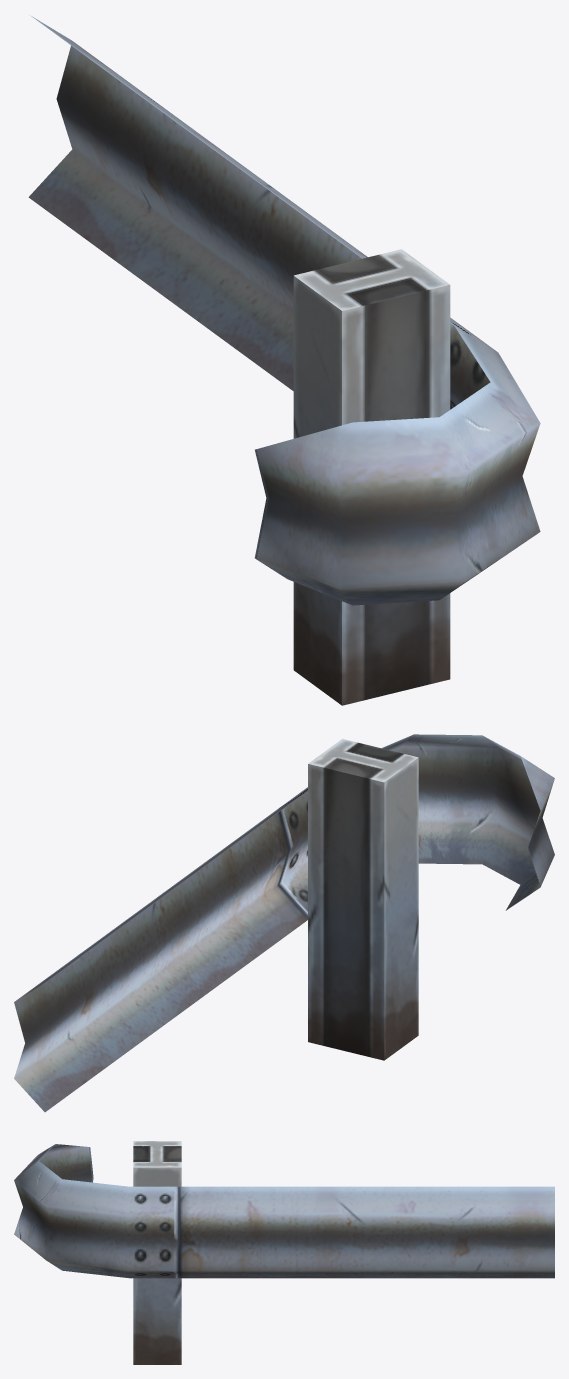
Rendered from TRF0110015.fbx.
The picture shows the model from 3 angles, top to bottom: view 1: azimuth 30°, elevation 25°; view 2: azimuth 150°, elevation 25°; view 3: azimuth 270°, elevation 25°; orthographic projection. The views are drawn at different scales.
Parts seen in each view (by area): view 1: smTRF0110015; view 2: smTRF0110015; view 3: smTRF0110015.
Part boxes in pixels (x1,y1,x2,y2): smTRF0110015: [28, 15, 540, 705]; smTRF0110015: [14, 734, 554, 1112]; smTRF0110015: [14, 1141, 554, 1364].
Size of the model in its own units: 61.5 by 82.17 by 204.
Materials: 1 (1 with a texture image).
